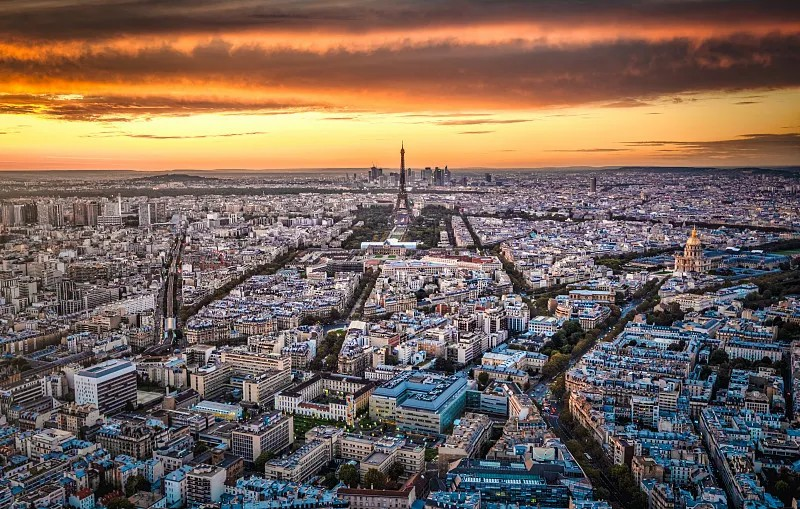Eiffel: (389, 140, 415, 225)
